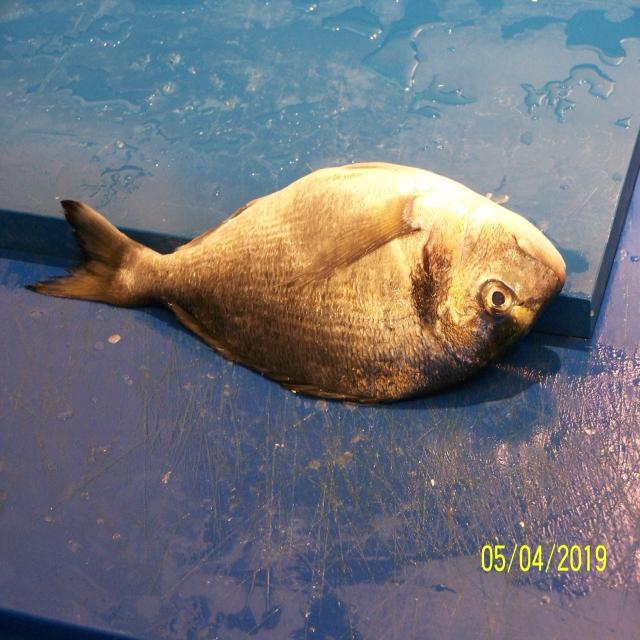Gilt-Head-Bream-c-ipura-: (24, 162, 567, 407)
